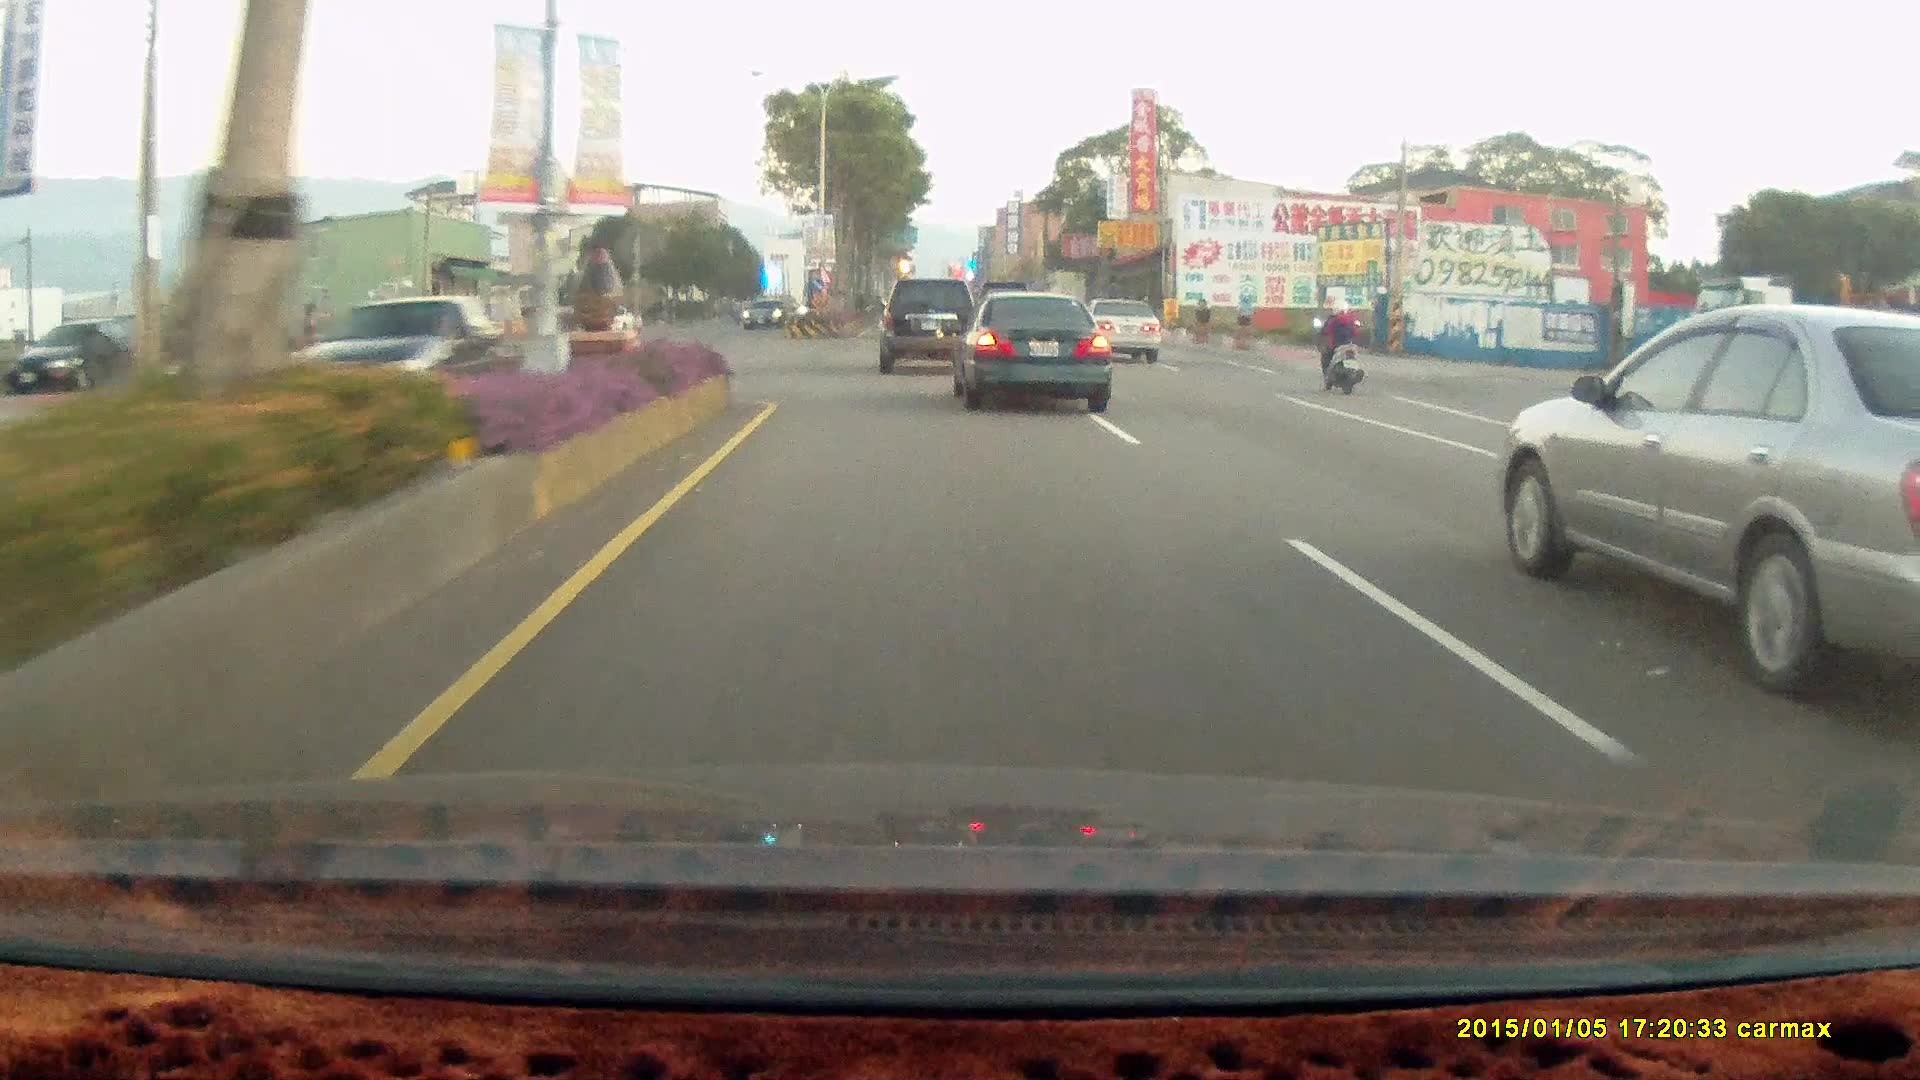pedestrian: (79, 319, 107, 398)
rider: (1304, 293, 1374, 402), (1308, 295, 1364, 392)
vehicle: (1502, 301, 1920, 695), (276, 293, 523, 415), (1683, 273, 1920, 391), (284, 297, 524, 413), (940, 291, 1103, 411), (958, 296, 1119, 416), (880, 274, 984, 374), (877, 277, 977, 374), (8, 319, 137, 394), (1078, 296, 1164, 364), (1078, 295, 1163, 363), (741, 297, 789, 333), (740, 295, 785, 327)
